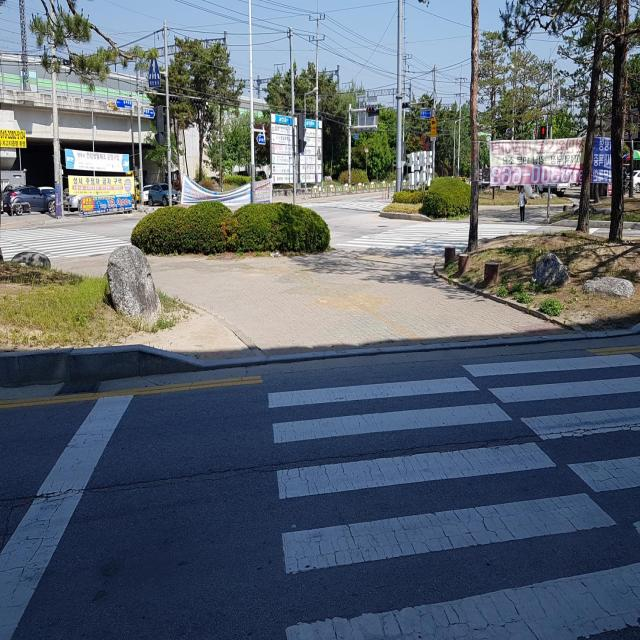횡단보도: (265, 351, 640, 639), (333, 220, 541, 254), (0, 226, 134, 259)
